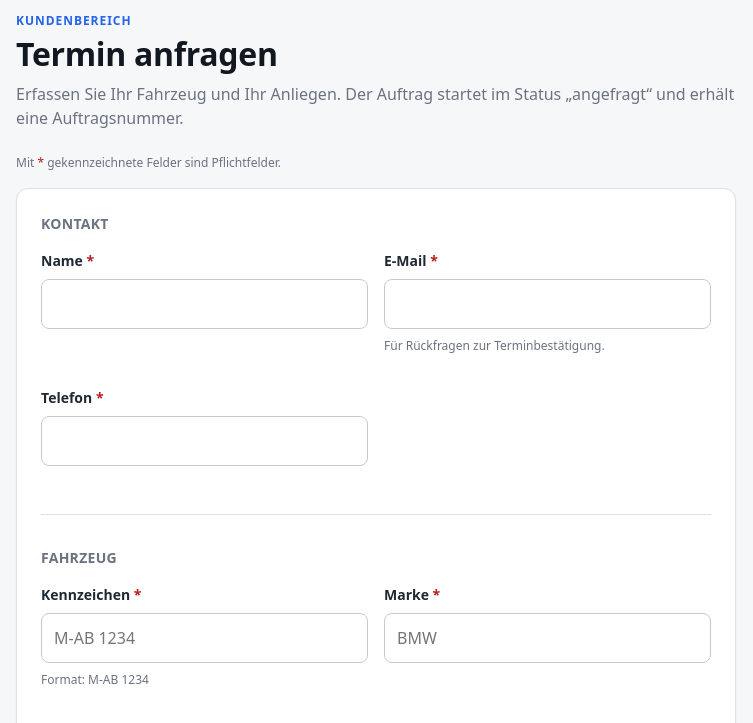
Test: AppointmentRequest (AC-13) › does not flag a field before it was touched
Click the field labelled "Name *" at (204, 304), box [41,279,368,329]
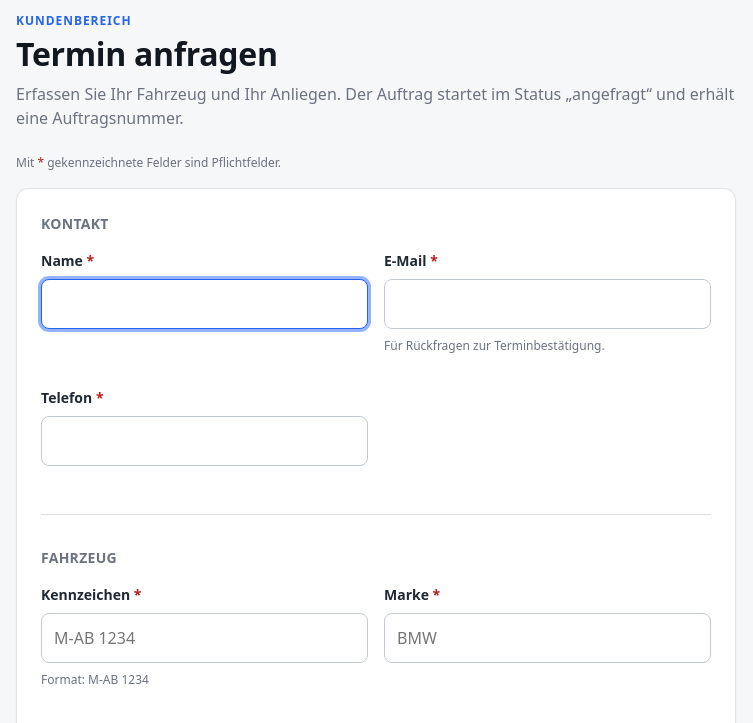
Press Tab
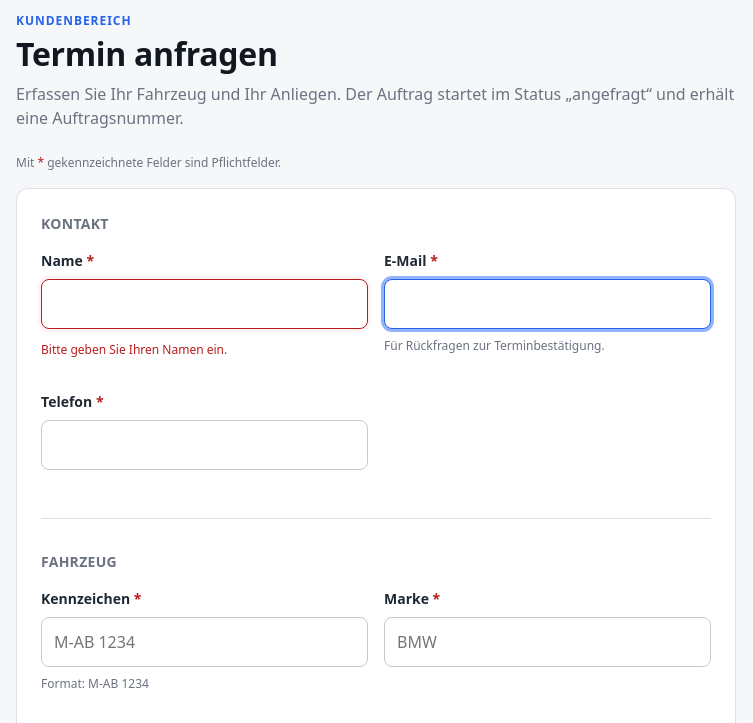
Result: the text "Bitte geben Sie Ihren Namen ein." is shown at [41,341,227,358]
